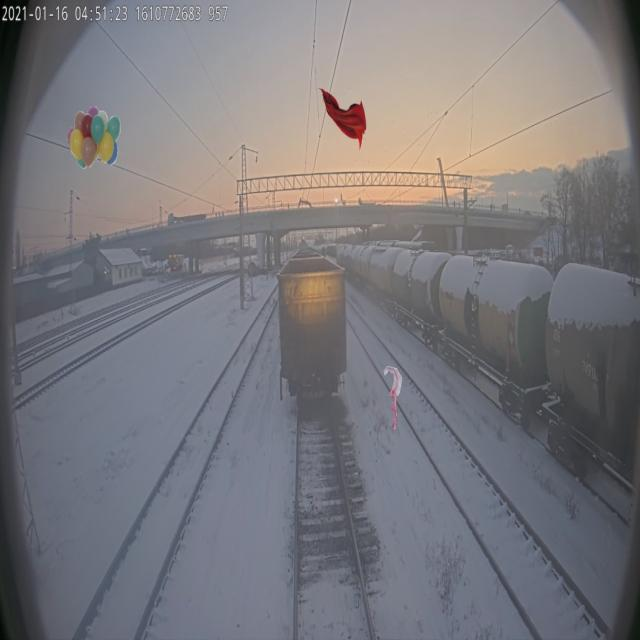balloon: (66, 105, 120, 169)
floating object: (318, 87, 367, 151), (383, 365, 402, 429)
